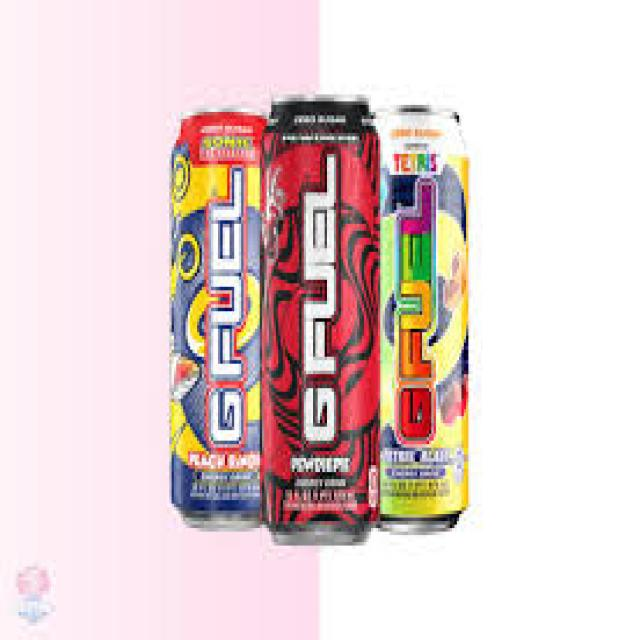Cans: (253, 81, 392, 556)
